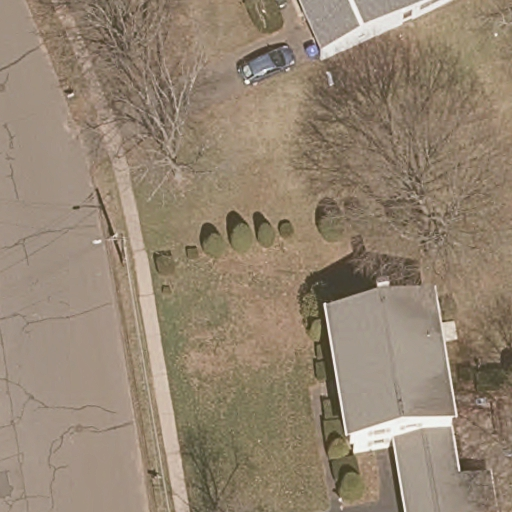DT: (104, 229, 130, 268)
